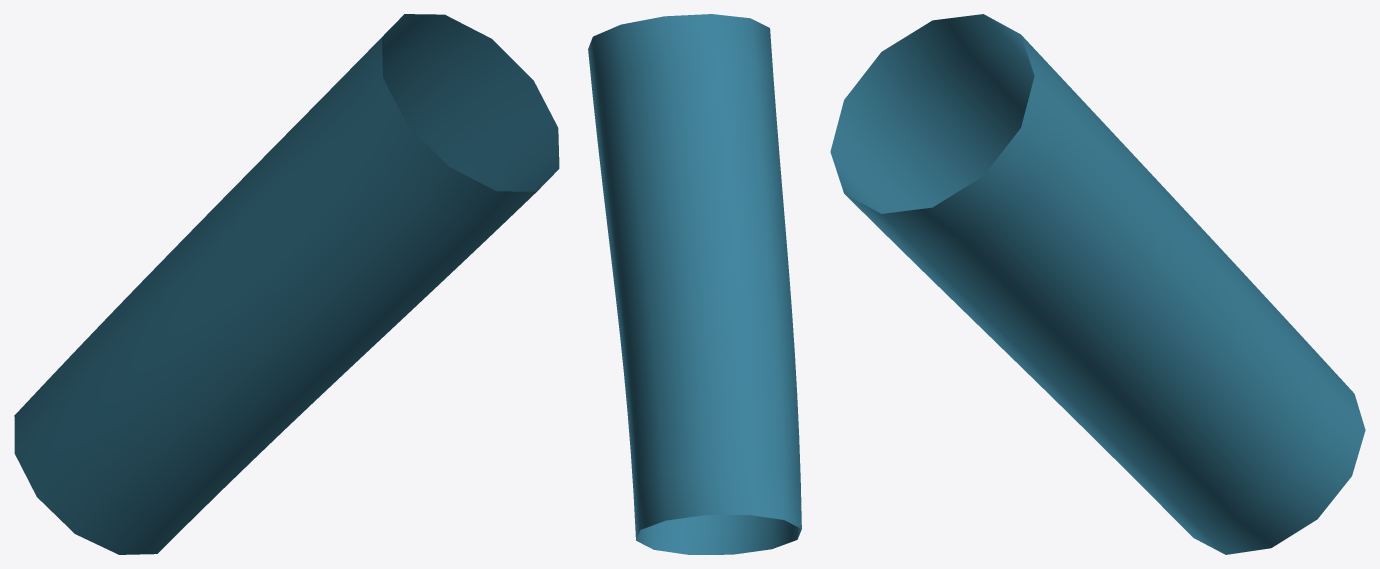
3 views of the same model, side by side, from view 1: azimuth 30°, elevation 25°; view 2: azimuth 150°, elevation 25°; view 3: azimuth 270°, elevation 25° (orthographic). The views are drawn at different scales.
Visible parts, largest first — view 1: 右肺中叶支气管; view 2: 右肺中叶支气管; view 3: 右肺中叶支气管.
Part boxes in pixels (bbox=[...]): 右肺中叶支气管: bbox=[14, 14, 559, 554]; 右肺中叶支气管: bbox=[588, 14, 801, 554]; 右肺中叶支气管: bbox=[830, 14, 1365, 554].
Bounding box in the file's own units: 0.0314 × 0.0442 × 0.0364.
